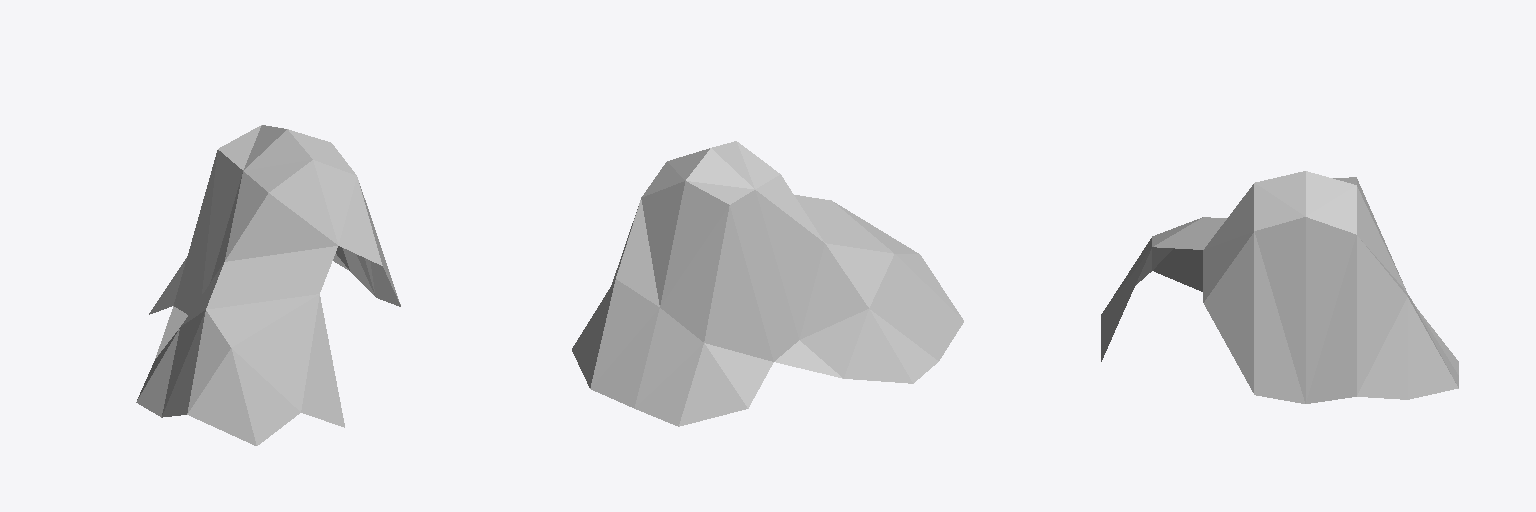
File: tree_53.obj
The picture shows the model from 3 angles: view 1: azimuth 30°, elevation 25°; view 2: azimuth 150°, elevation 25°; view 3: azimuth 270°, elevation 25°; orthographic projection.
Parts seen in each view (by area): view 1: tree_53.001; view 2: tree_53.001; view 3: tree_53.001.
Part boxes in pixels (bbox=[...]): tree_53.001: bbox=[136, 125, 400, 445]; tree_53.001: bbox=[572, 141, 963, 426]; tree_53.001: bbox=[1101, 171, 1458, 403].
Size of the model in its own units: 6 by 4.61 by 7.